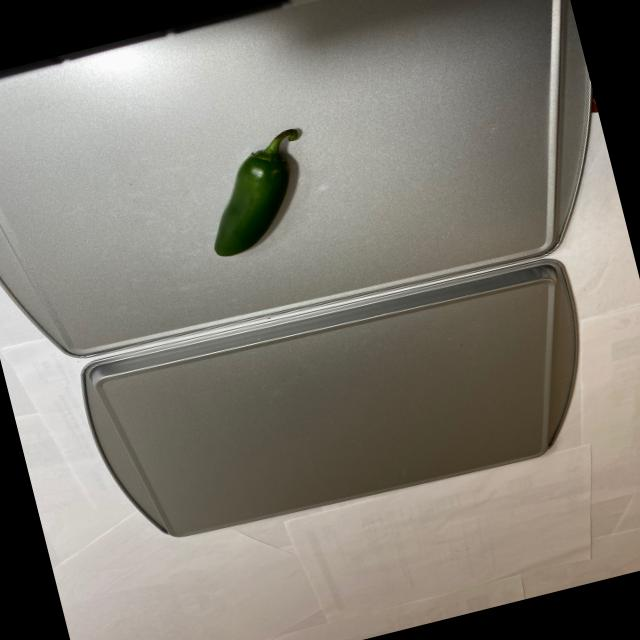chilli: (182, 114, 332, 262)
